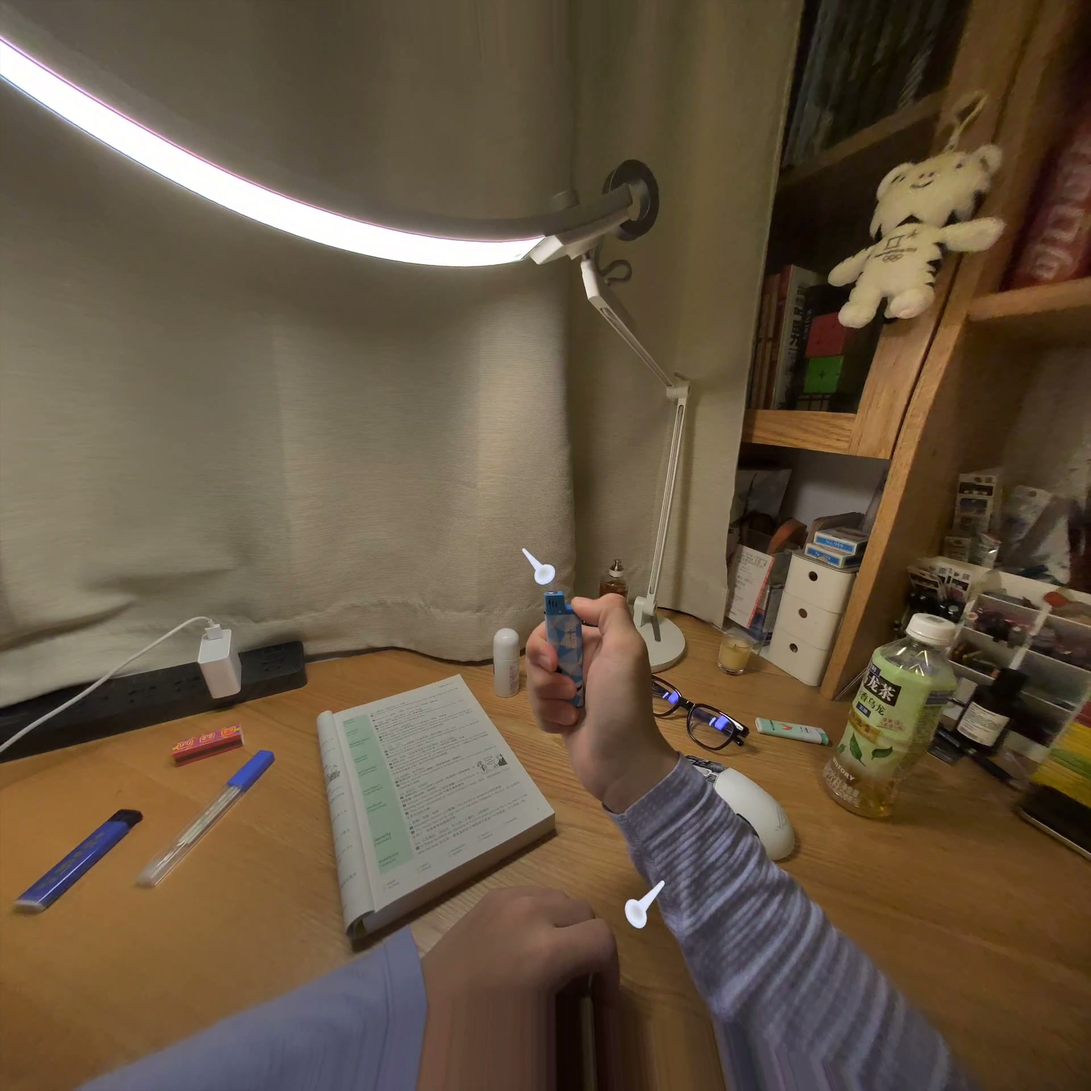lighter: (544, 592, 584, 707)
